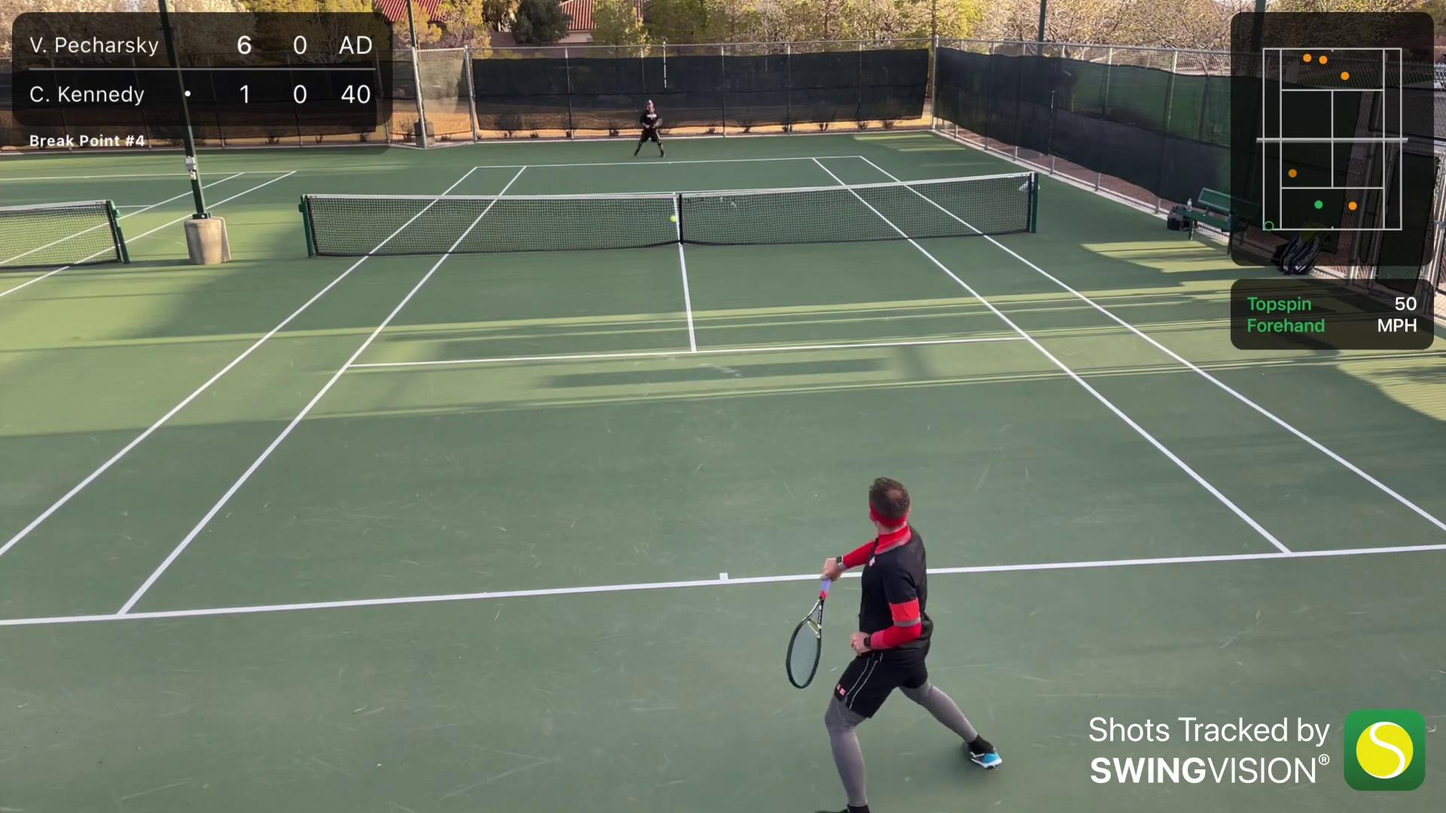ball: (668, 215, 676, 222)
